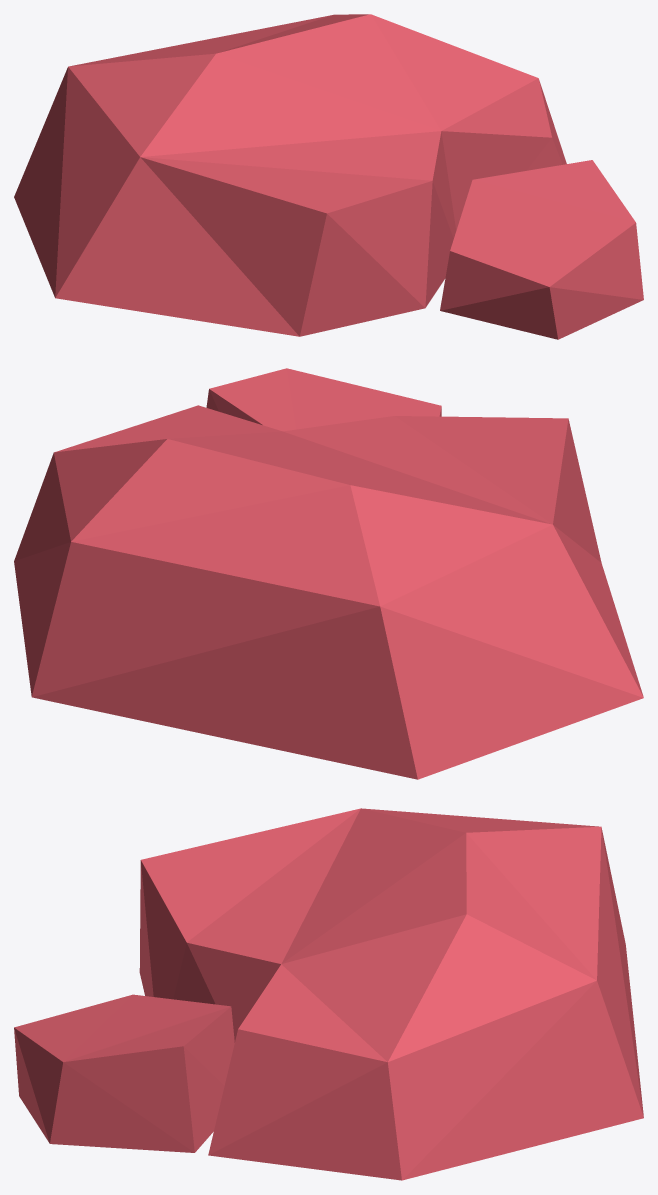
Rendered from decoration-stone-flat.fbx.
3 renders of one model, top to bottom at view 1: azimuth 30°, elevation 25°; view 2: azimuth 150°, elevation 25°; view 3: azimuth 270°, elevation 25°, orthographic. The views are drawn at different scales.
Parts seen in each view (by area): view 1: decoration-stone-flat; view 2: decoration-stone-flat; view 3: decoration-stone-flat.
Part boxes in pixels (left/top/right/bottom): decoration-stone-flat: left=14, top=14, right=643, bottom=339; decoration-stone-flat: left=14, top=368, right=643, bottom=779; decoration-stone-flat: left=14, top=808, right=643, bottom=1180.
Size of the model in its own units: 2.33 by 0.7416 by 2.22.
